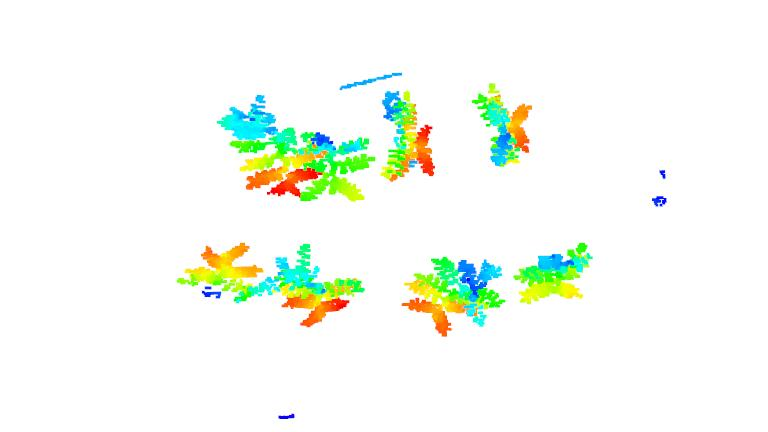chickpea: (217, 91, 320, 200), (253, 245, 368, 329), (400, 256, 509, 338), (375, 89, 437, 183), (298, 129, 375, 203), (470, 82, 533, 170), (176, 241, 264, 302), (511, 244, 596, 305)
